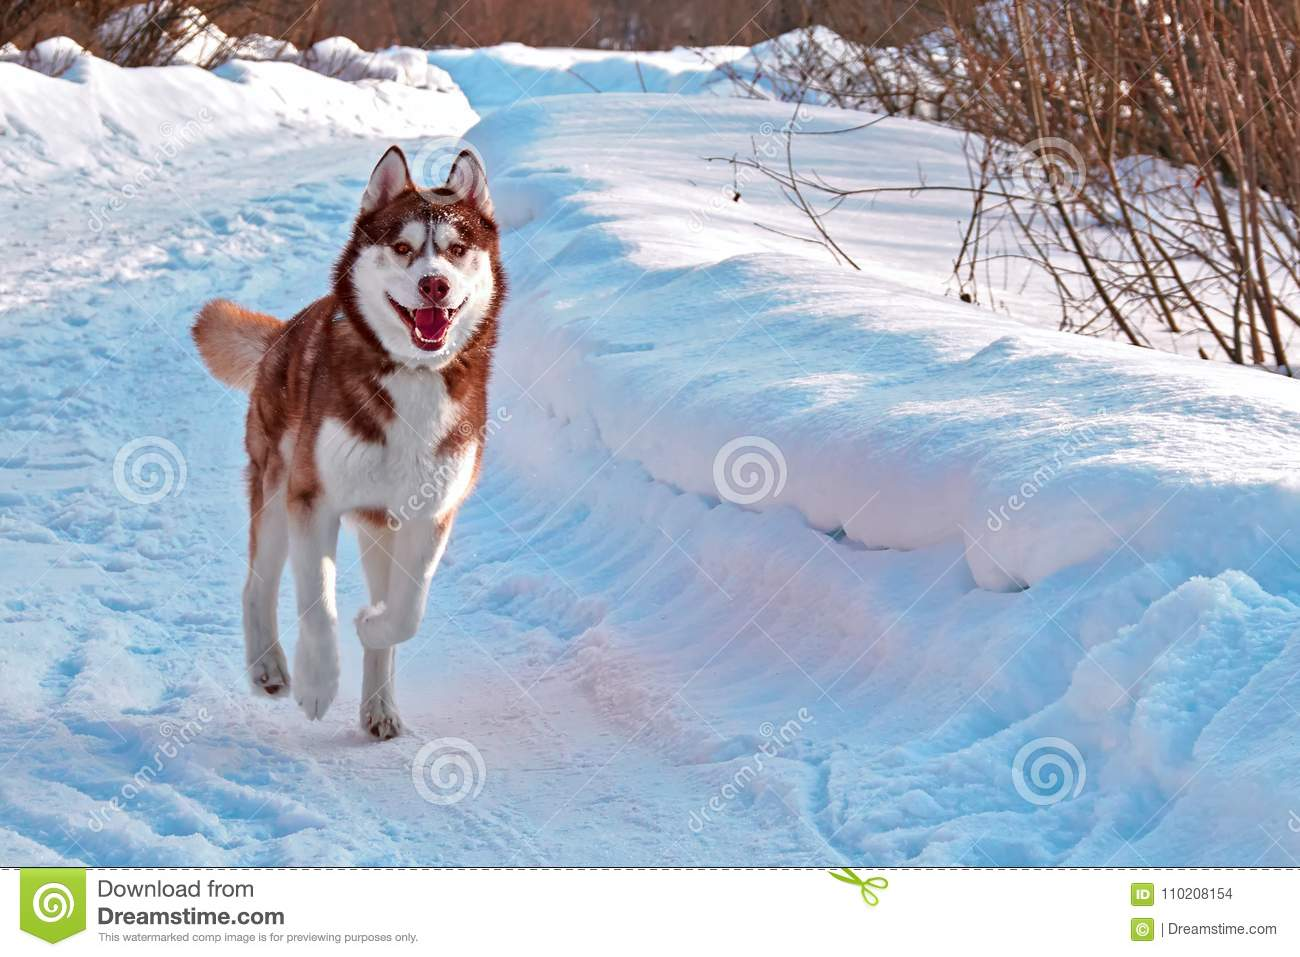husky: (201, 121, 539, 717)
